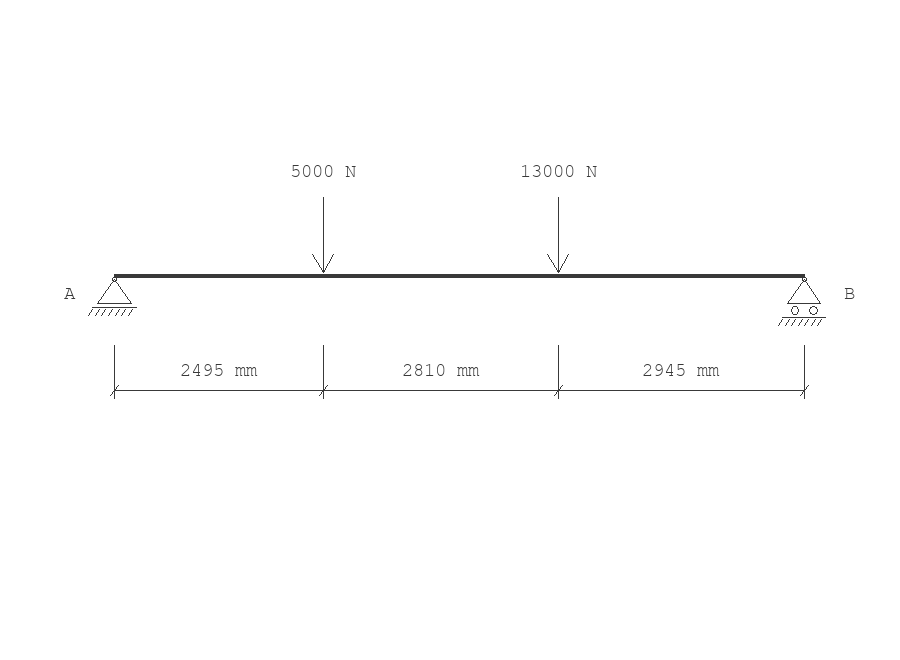pin_support: (88, 277, 137, 316)
point_load: (312, 197, 334, 273), (547, 197, 569, 273)
roller_support: (778, 277, 826, 326)
